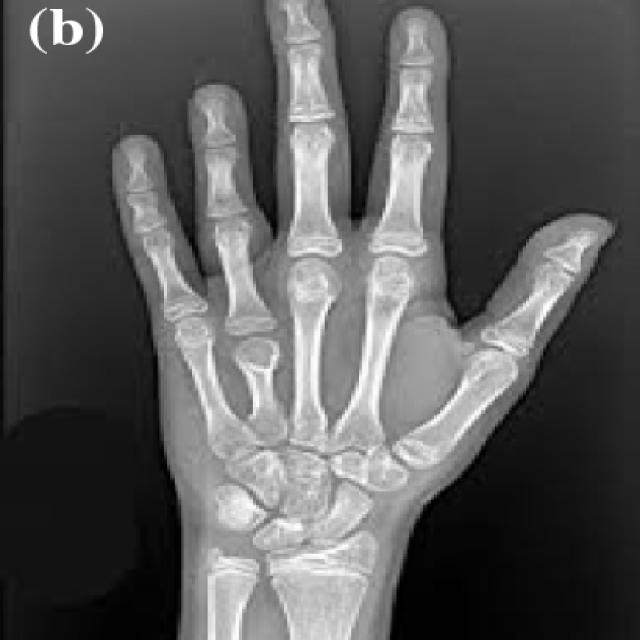fracture: (220, 299, 296, 397)
